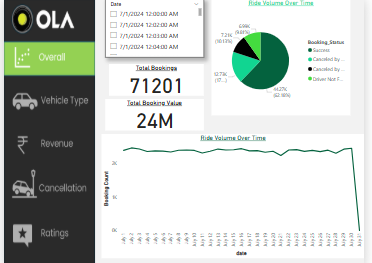

The dashboard page shown, as its layout file describes it:
{"tool":"powerbi","page":{"name":"Overall","canvas":[960,720],"ordinal":0},"visuals":[{"type":"actionButton","box":[0,205,240,105.8],"z":0},{"type":"actionButton","box":[0,320,240,81.4],"z":1},{"type":"actionButton","box":[0,440,240,101.7],"z":2},{"type":"actionButton","box":[0,562.5,240,156.7],"z":3},{"type":"slicer","title":"Booking Status Breakdown","fields":{"Values":["pub?output=csv.Date"]},"box":[270,0,262.9,155.7],"z":4},{"type":"lineChart","title":"Ride Volume Over Time","fields":{"Y":["CountNonNull(pub?output=csv.Booking_ID)"],"Category":["pub?output=csv.Date.Variation.Date Hierarchy.Month","pub?output=csv.Date.Variation.Date Hierarchy.Day"]},"box":[258.3,360,701.7,330.8],"z":5},{"type":"pieChart","title":"Ride Volume Over Time","fields":{"Y":["CountNonNull(pub?output=csv.Booking_ID)"],"Category":["pub?output=csv.Booking_Status"]},"box":[554.4,0,370.7,310.6],"z":6},{"type":"card","title":"Total Bookings","fields":{"Values":["Count(pub?output=csv.Booking_ID)"]},"box":[280,173,253,85],"z":7},{"type":"card","title":" Total Booking Value","fields":{"Values":["Sum(pub?output=csv.Booking_Value)"]},"box":[271,268,263,84],"z":8}]}

Visuals, with their boxes on the page's 960x720 design canvas (x1, y1, x2, y2). These are canvas units, not pixel positions in the 372x263 screenshot, which may show the page scaled, cropped or inside an application window:
actionButton: left=0, top=205, right=240, bottom=311
actionButton: left=0, top=320, right=240, bottom=401
actionButton: left=0, top=440, right=240, bottom=542
actionButton: left=0, top=562, right=240, bottom=719
"Booking Status Breakdown" slicer: left=270, top=0, right=533, bottom=156
"Ride Volume Over Time" lineChart: left=258, top=360, right=960, bottom=691
"Ride Volume Over Time" pieChart: left=554, top=0, right=925, bottom=311
"Total Bookings" card: left=280, top=173, right=533, bottom=258
" Total Booking Value" card: left=271, top=268, right=534, bottom=352
